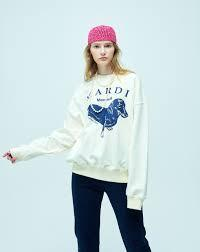pants: (71, 171, 152, 252)
sweater: (8, 65, 151, 213)
